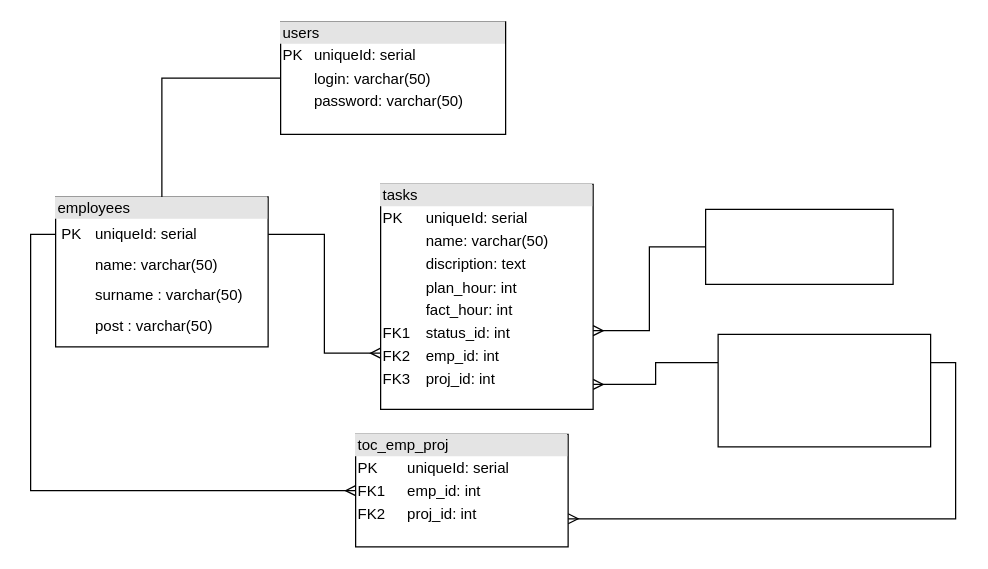
This 988x569 diagram has some shape labels left out. Here are the shapes that lost their labels. From the top down, the centre of each, then its label:
point (798, 246): statuses PK uniqueId: serial name: varchar(50)
point (824, 390): projects PK uniqueId: serial name: varchar(50) disc: text
